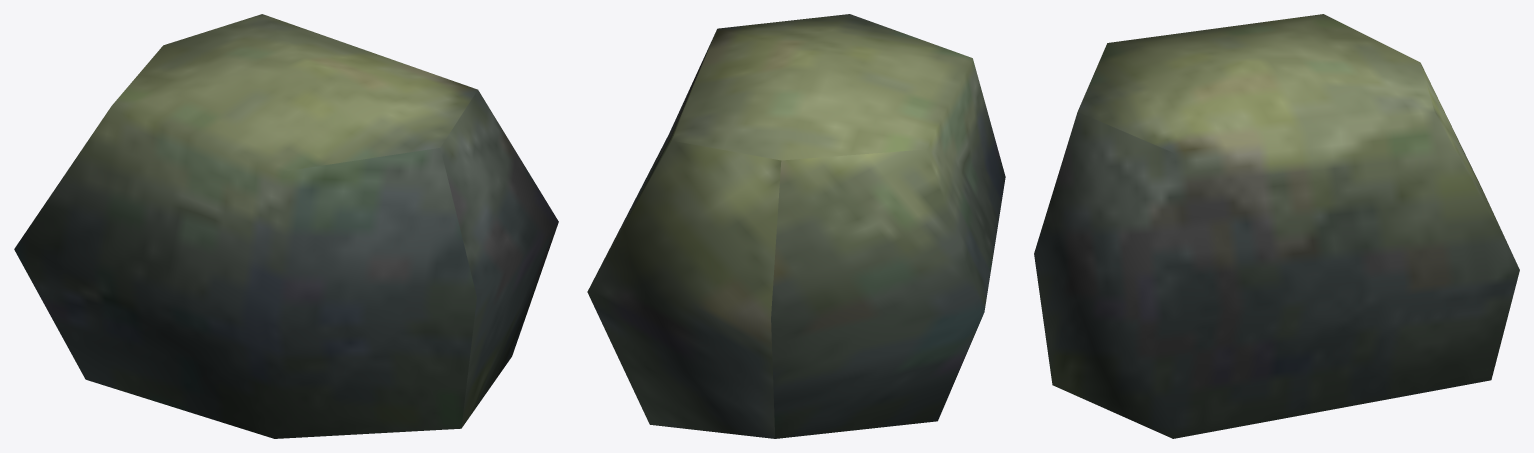
File: map_113_wujian_11.fbx
3 renders of one model, left to right at view 1: azimuth 30°, elevation 25°; view 2: azimuth 150°, elevation 25°; view 3: azimuth 270°, elevation 25°, orthographic. The views are drawn at different scales.
Parts seen in each view (by area): view 1: map_113_wujian_11; view 2: map_113_wujian_11; view 3: map_113_wujian_11.
Boxes of the visible parts, bbox=[...] form: map_113_wujian_11: bbox=[14, 14, 558, 438]; map_113_wujian_11: bbox=[587, 14, 1005, 438]; map_113_wujian_11: bbox=[1034, 14, 1519, 438].
Bounding box in the file's own units: 0.2026 × 0.1344 × 0.1984.
